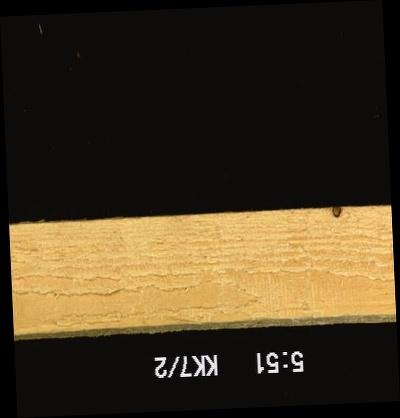edge_knot: (329, 202, 344, 219)
